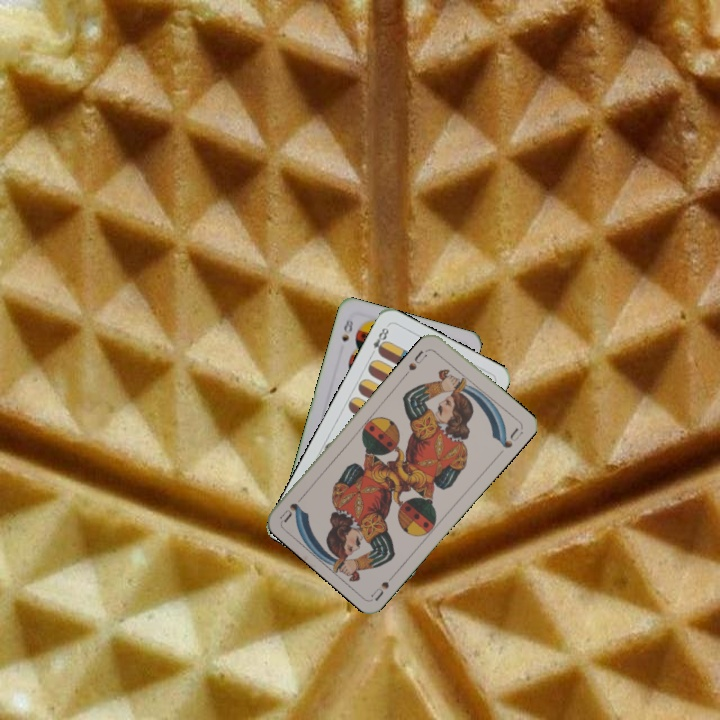E8: (366, 323, 392, 359)
S8: (337, 315, 356, 344)
SU: (367, 567, 400, 603), (401, 346, 429, 378)
